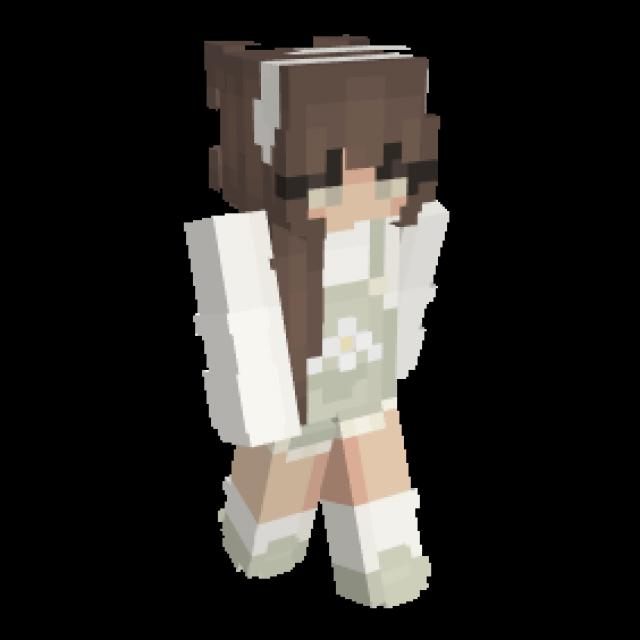Player: (171, 27, 460, 610)
